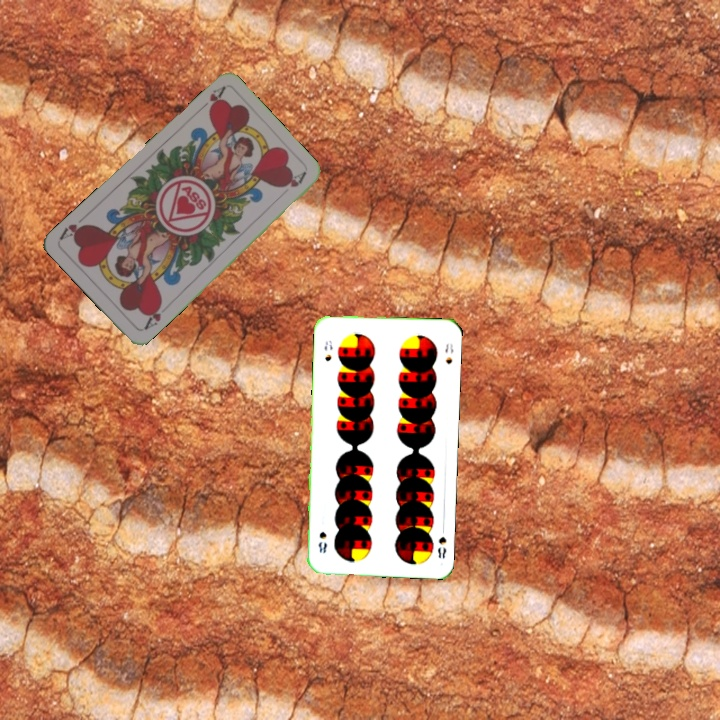HA: (139, 297, 172, 333), (194, 83, 228, 115)
S8: (434, 522, 449, 561), (320, 336, 335, 363)
